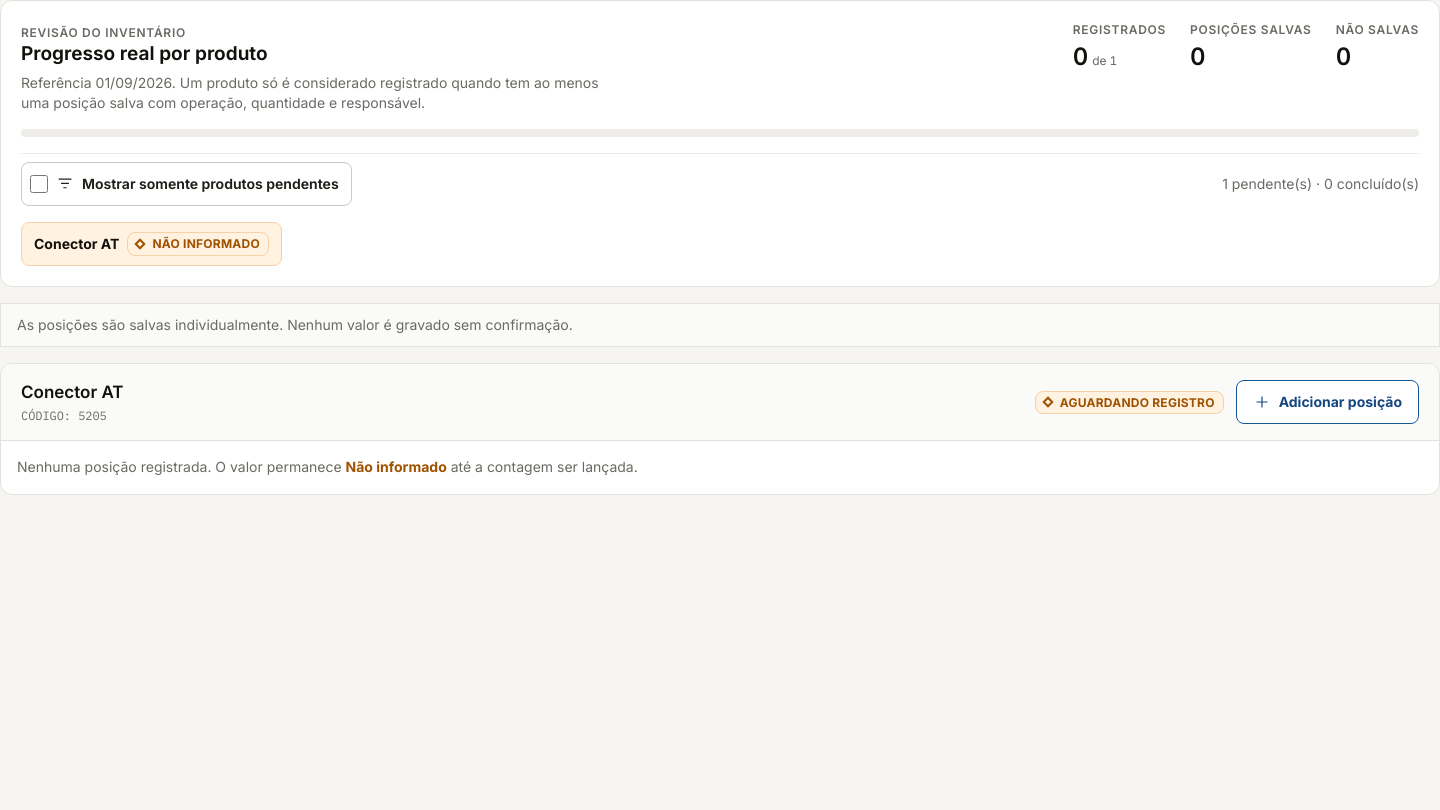
Test: inventário de abertura › salva a posição e anuncia o resultado por aria-live
Click the button "Adicionar posição". click: [1327, 402]
box: [1236,380,1419,424]
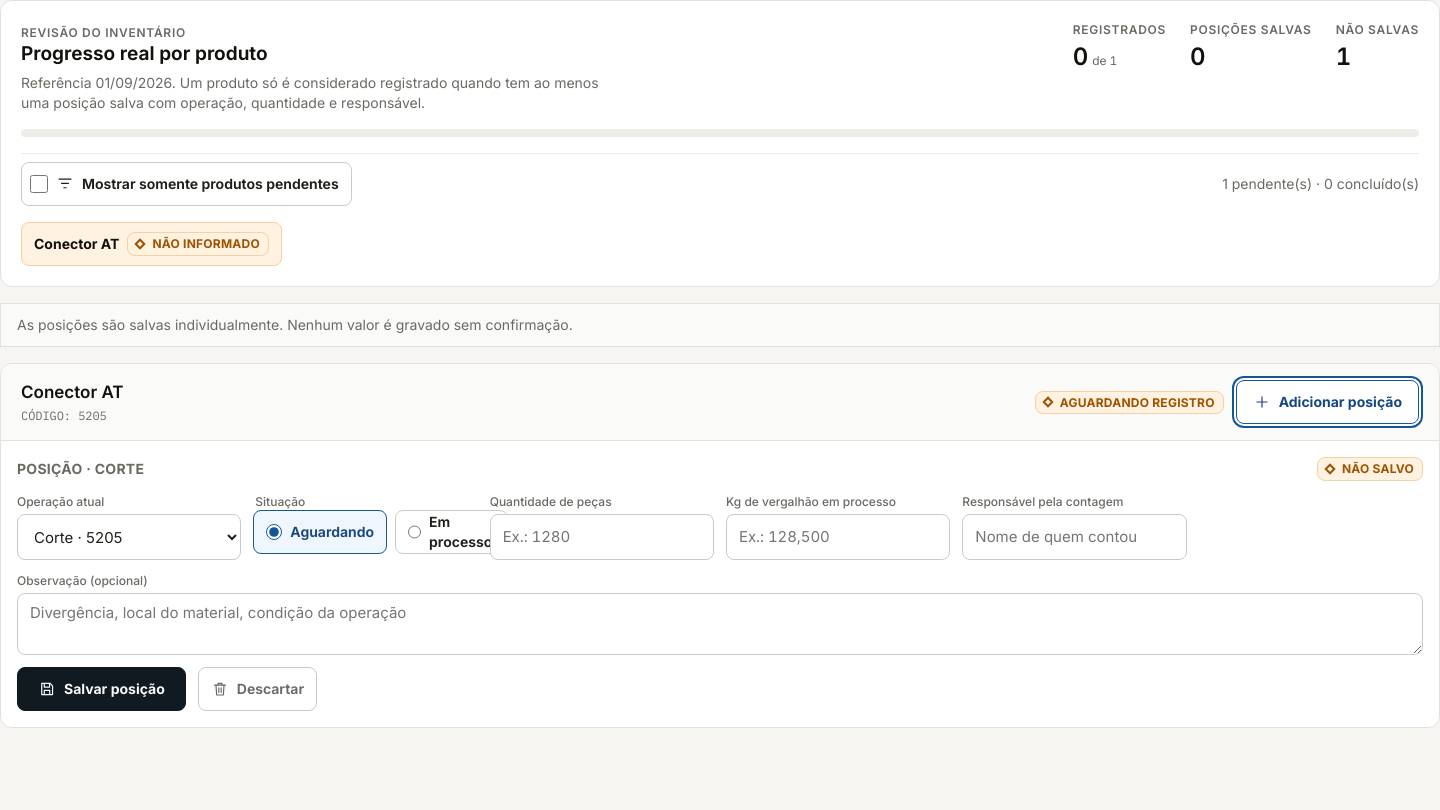
Type "0" into the field labelled "Quantidade de peças". click: [602, 537]
box: [490,514,714,560]
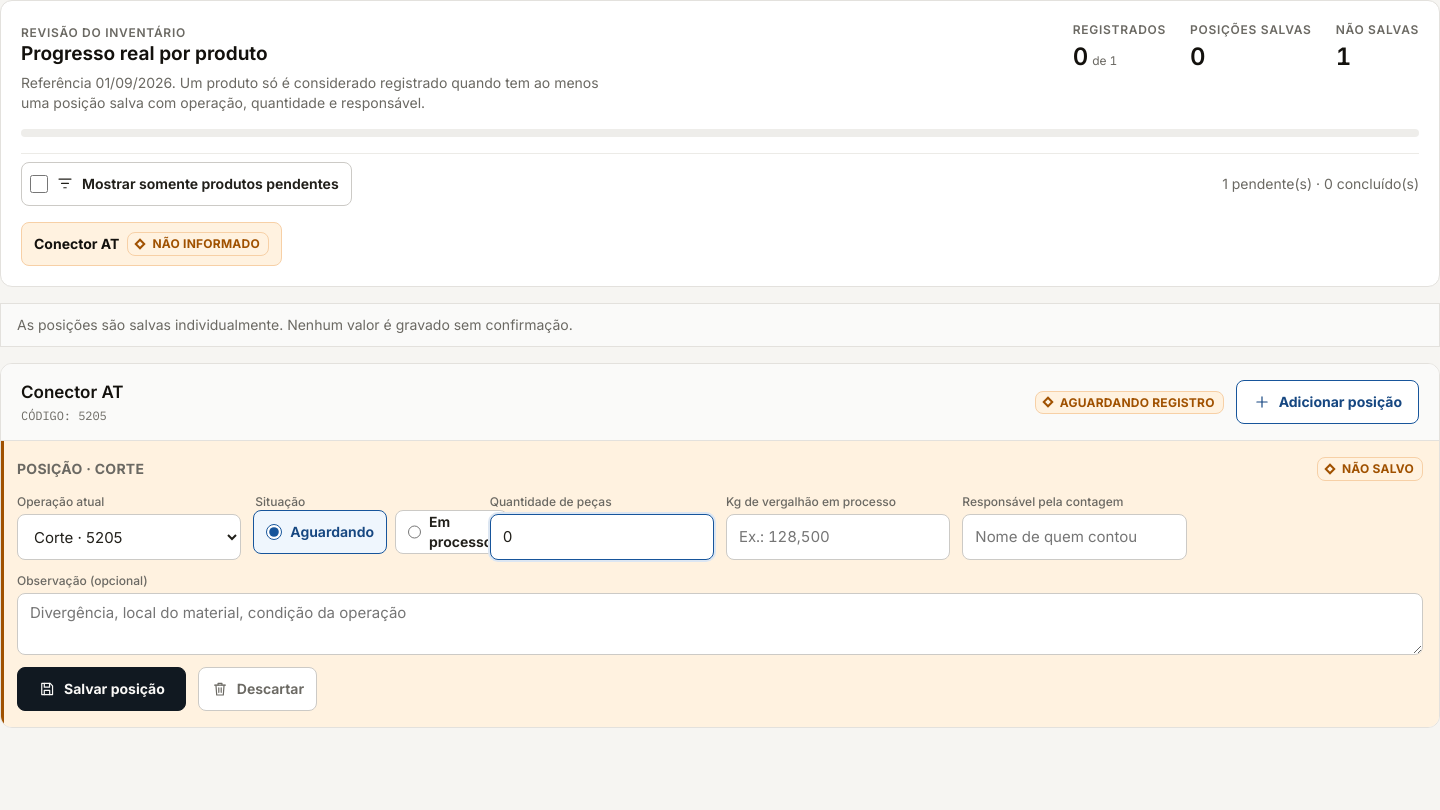
Type "12,5" into the field labelled "Kg de vergalhão em processo". click: [838, 537]
box: [726,514,950,560]
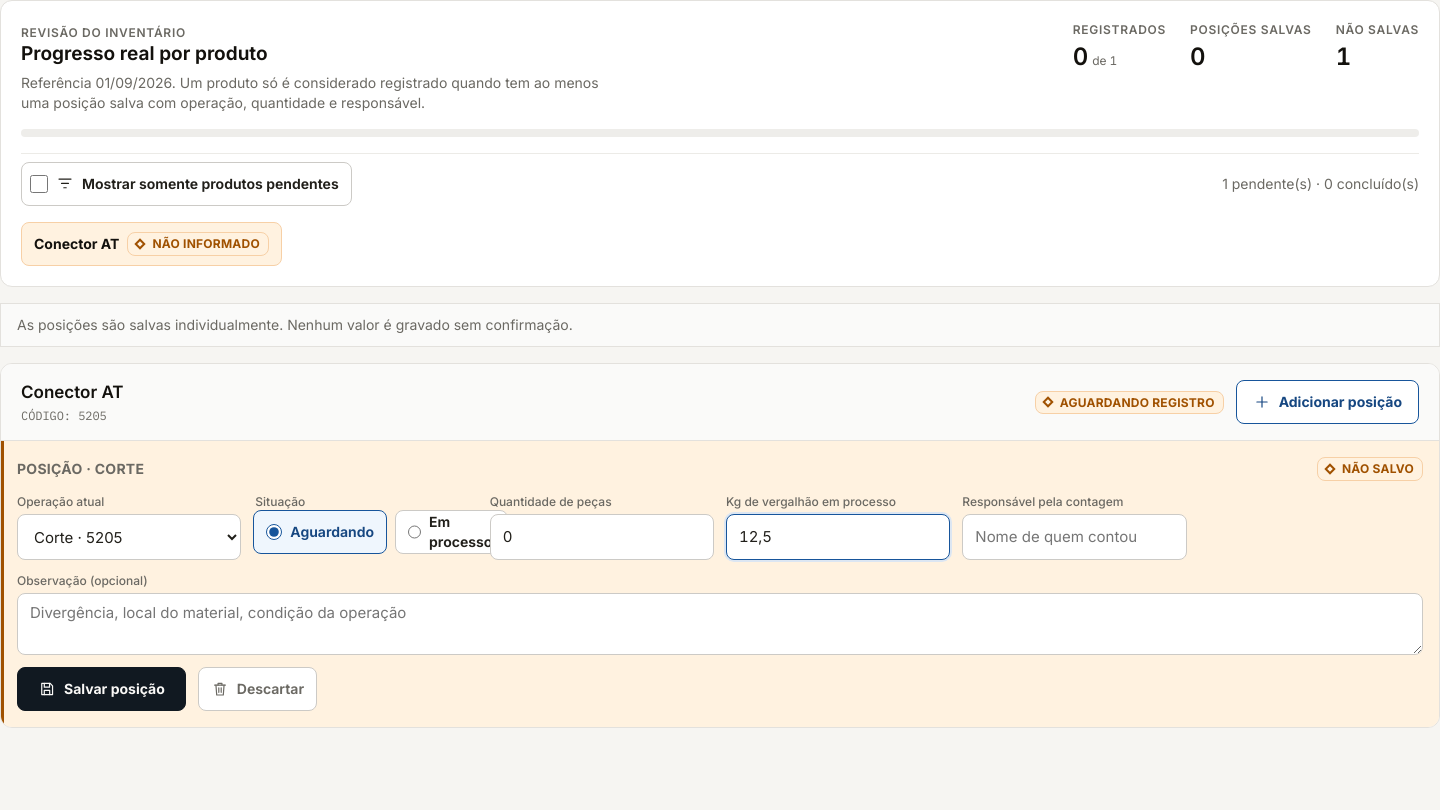
Type "Ana" into the field labelled "Responsável pela contagem". click: [1074, 537]
box: [962,514,1187,560]
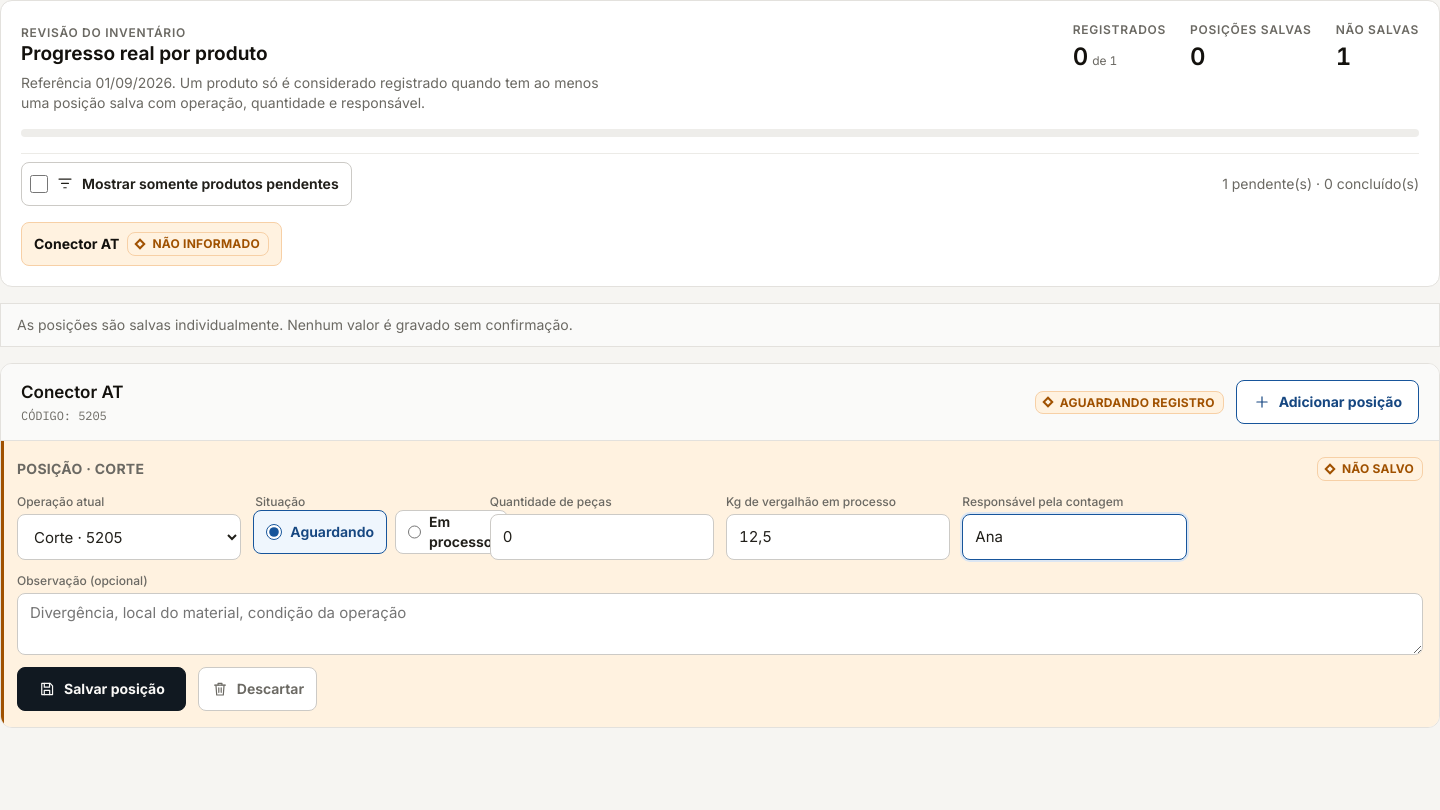
Click the button "Salvar posição". click: [101, 689]
box: [17,667,186,711]
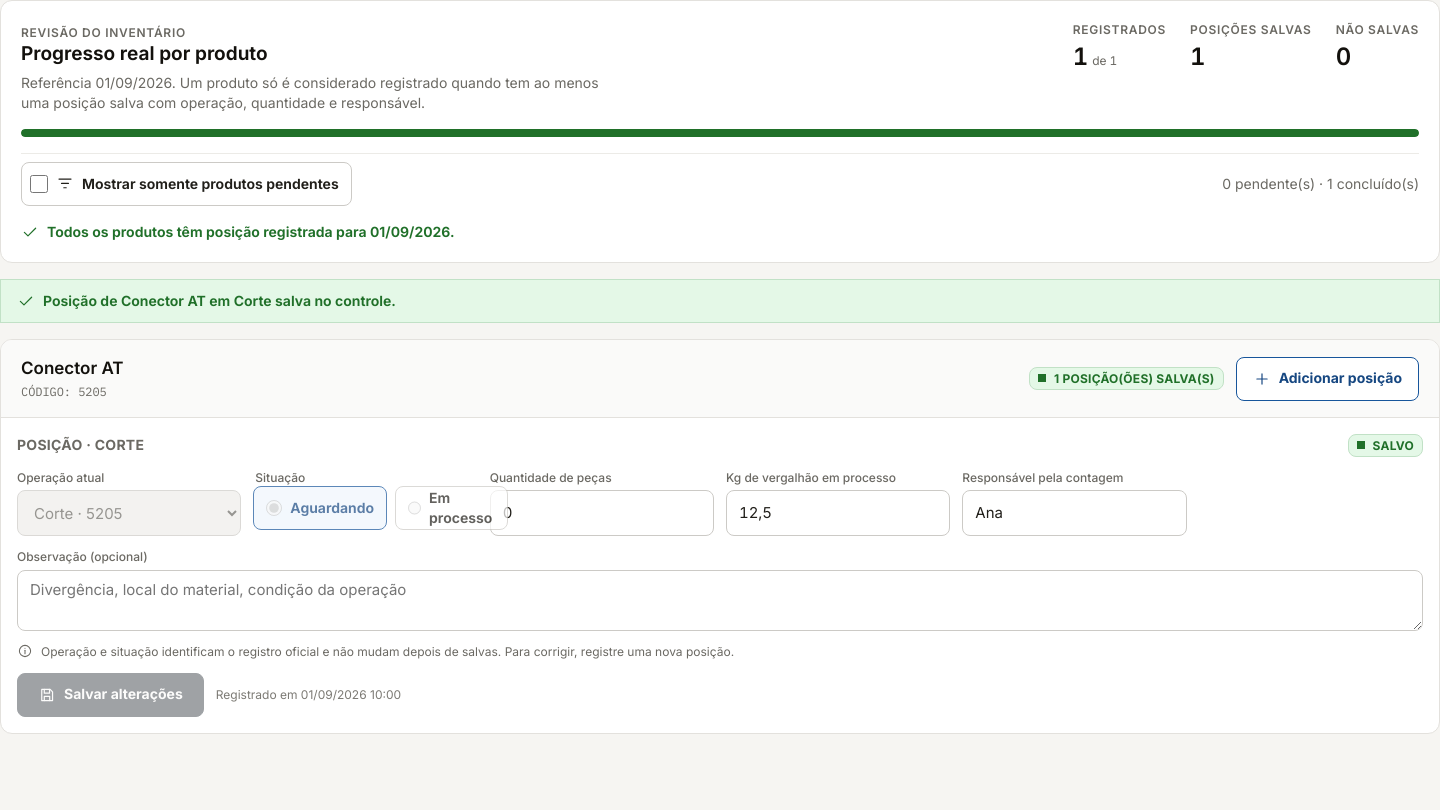
Now the text "Posição de Conector AT em Corte salva no controle." is shown, box [0,280,1439,324]
